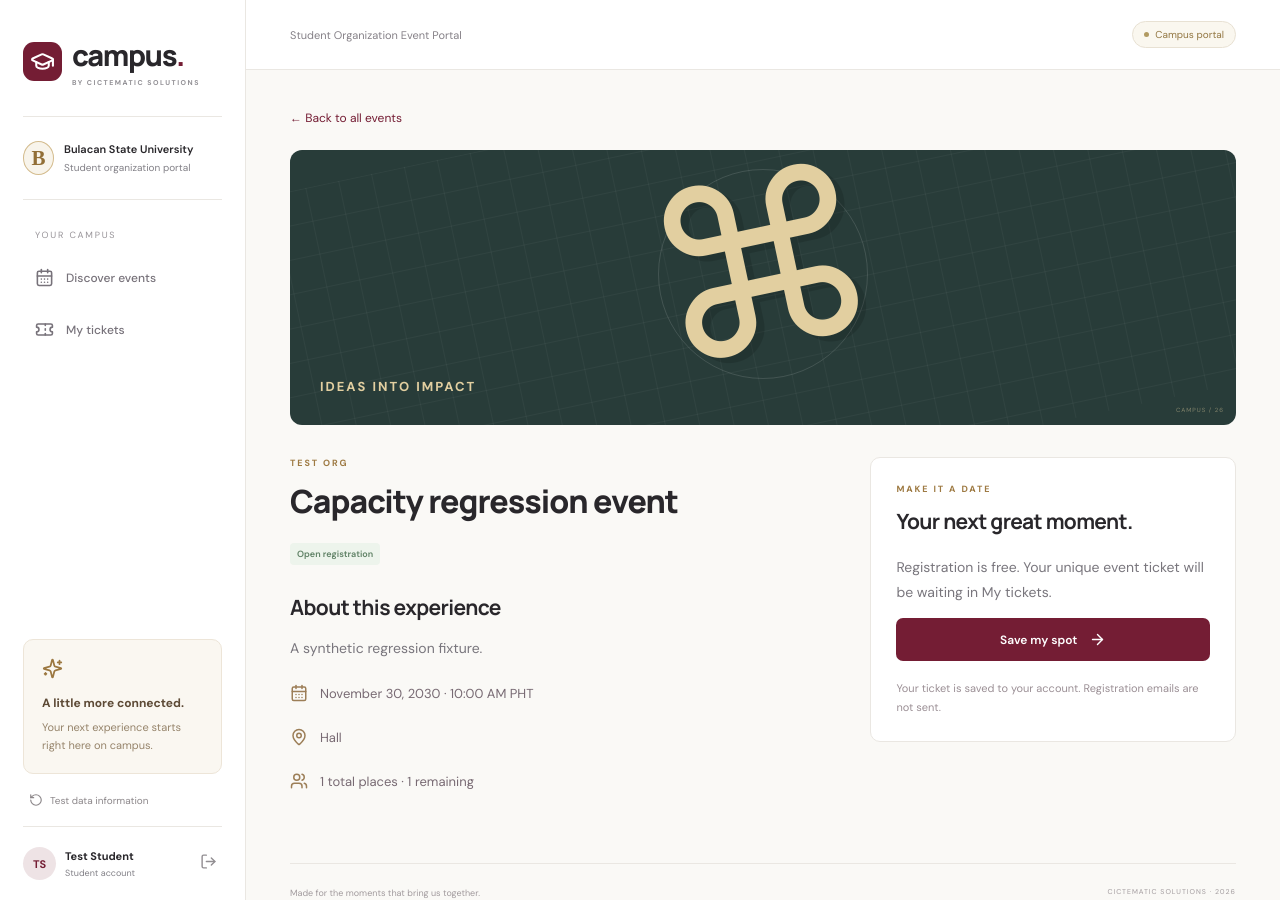
Test: shared availability refresh › uses fresh counts when returning to the catalogue without reloading the browser
The width and height of the screenshot is (1280, 900).
Expected: the button "Save my spot" is shown, [896, 618, 1210, 661]
Click the link "Discover events". click: [96, 278]
box: [35, 268, 156, 287]
(page scrolled)
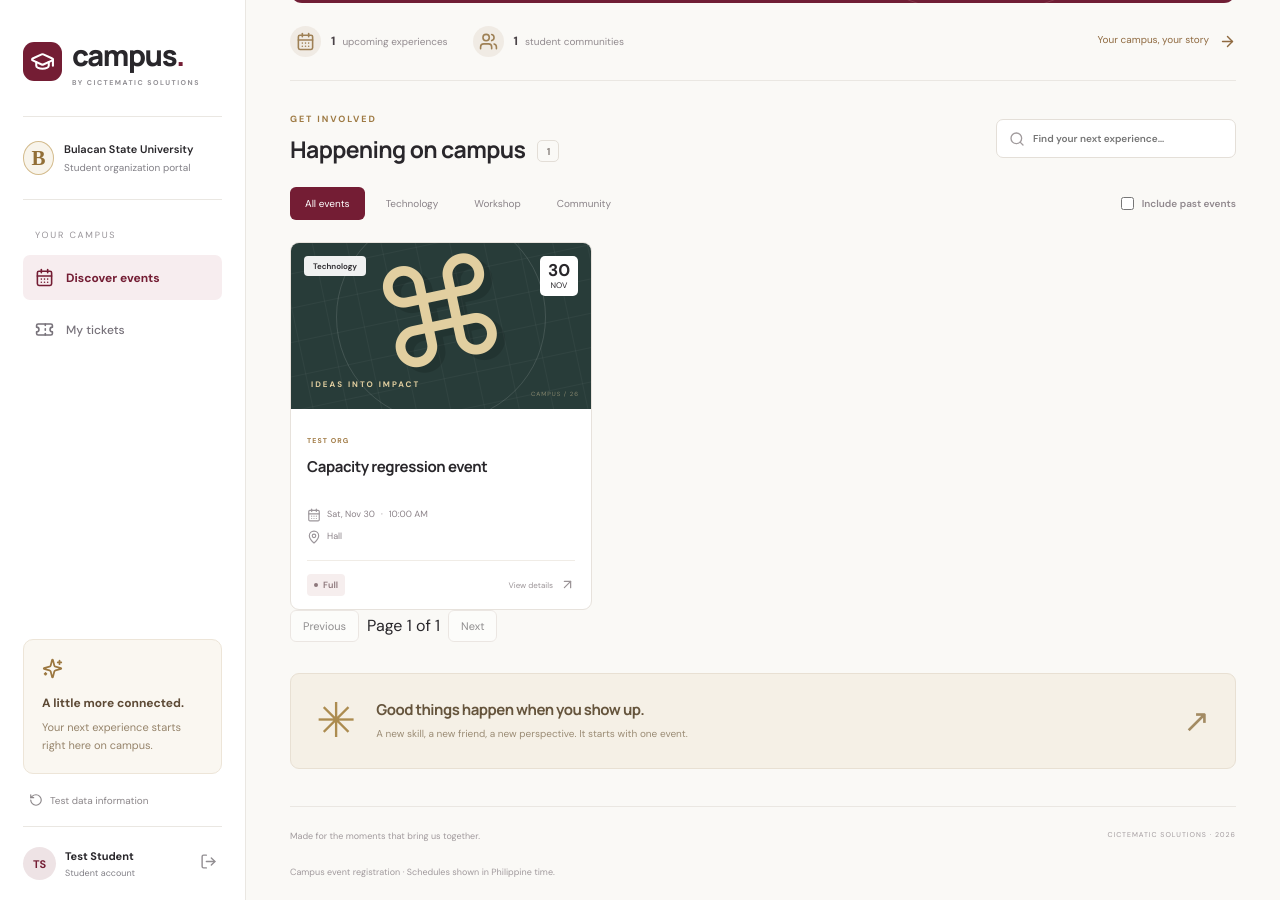
Result: the text "Full" is shown at [307, 574, 345, 596]
